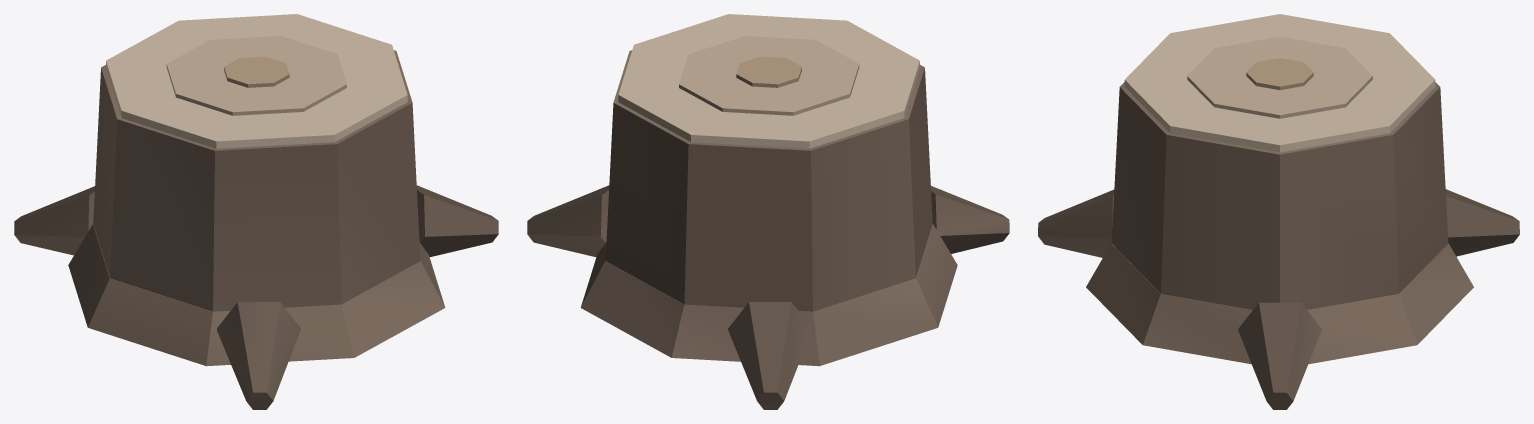
File: Tree_Oak_Used.fbx
The picture shows the model from 3 angles, left to right: view 1: azimuth 30°, elevation 25°; view 2: azimuth 150°, elevation 25°; view 3: azimuth 270°, elevation 25°; orthographic projection.
Parts seen in each view (by area): view 1: Res_Tree_Oak_Used; view 2: Res_Tree_Oak_Used; view 3: Res_Tree_Oak_Used.
Part boxes in pixels (x1,y1,x2,y2): Res_Tree_Oak_Used: [14, 14, 498, 409]; Res_Tree_Oak_Used: [527, 14, 1009, 409]; Res_Tree_Oak_Used: [1038, 14, 1519, 409].
Size of the model in its own units: 1.16 by 0.6177 by 1.2.
